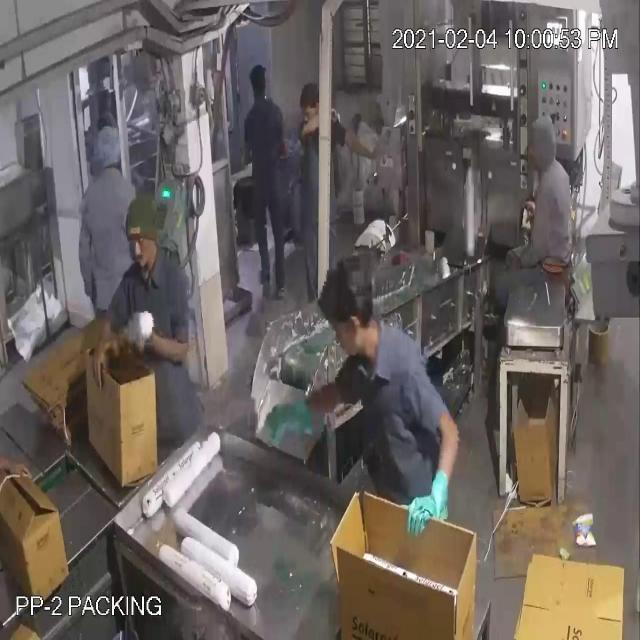No_Gloves: (45, 50, 432, 506)
